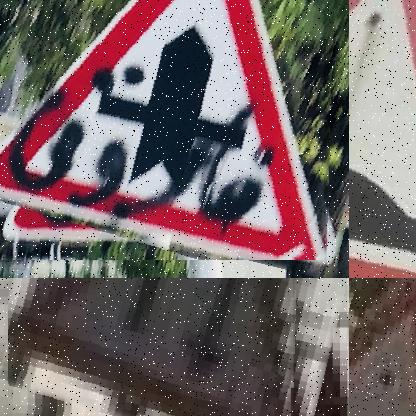Speed Breaker Ahead: (349, 0, 416, 278), (349, 278, 416, 416)
U-Turn: (9, 278, 292, 416)
